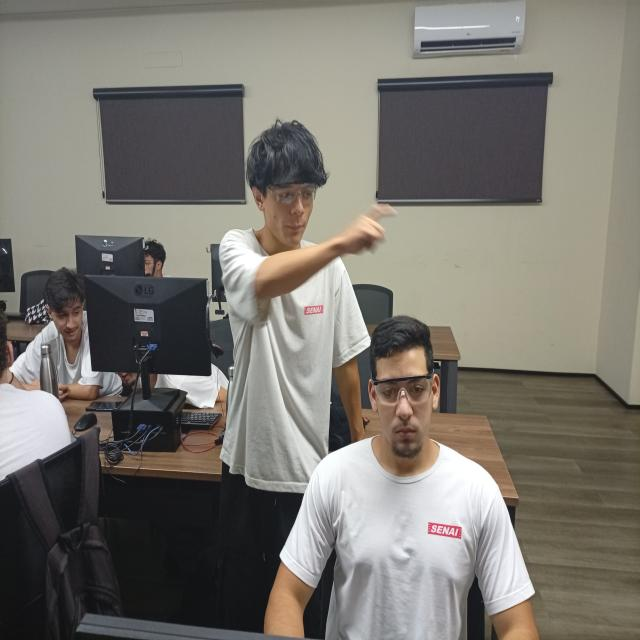oculos-epi: (372, 374, 433, 404), (268, 180, 317, 204)
sem_oculos: (43, 266, 85, 358), (142, 238, 170, 276)
